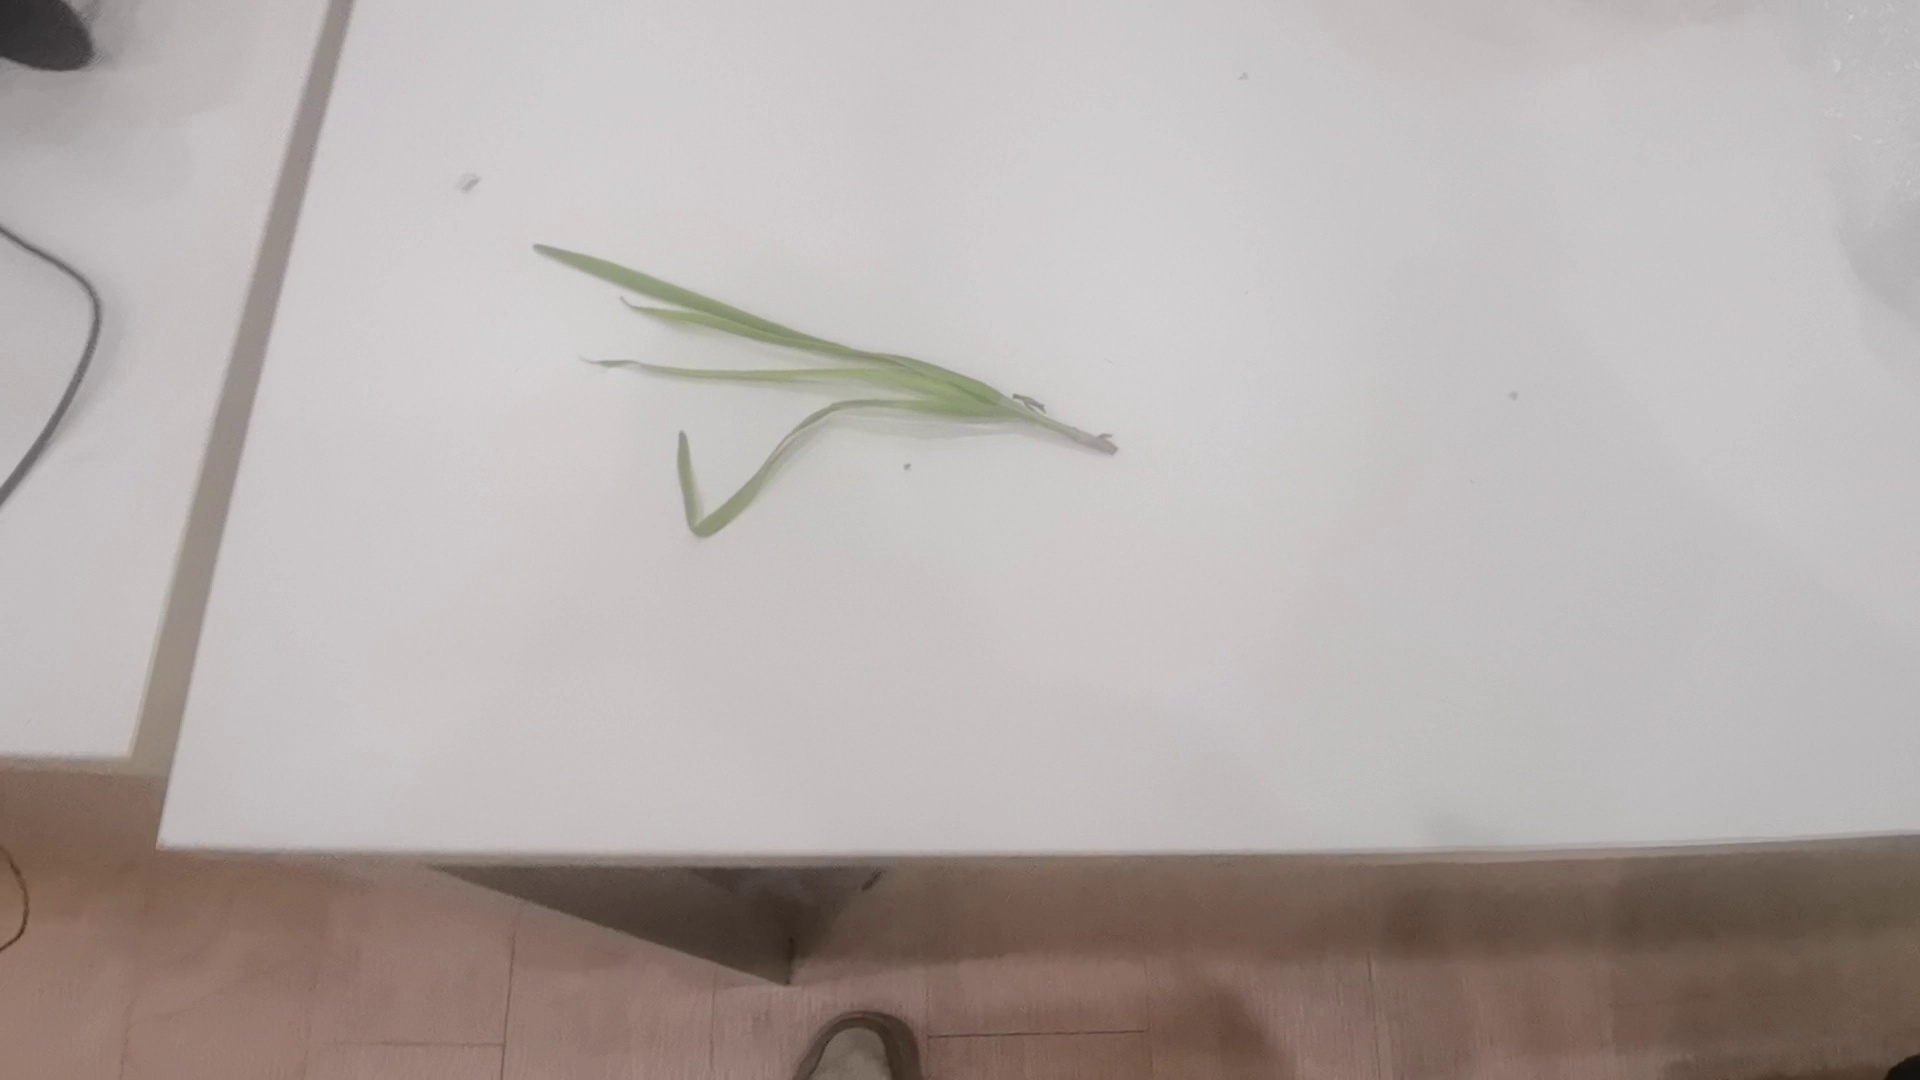chives: (524, 244, 1130, 570)
